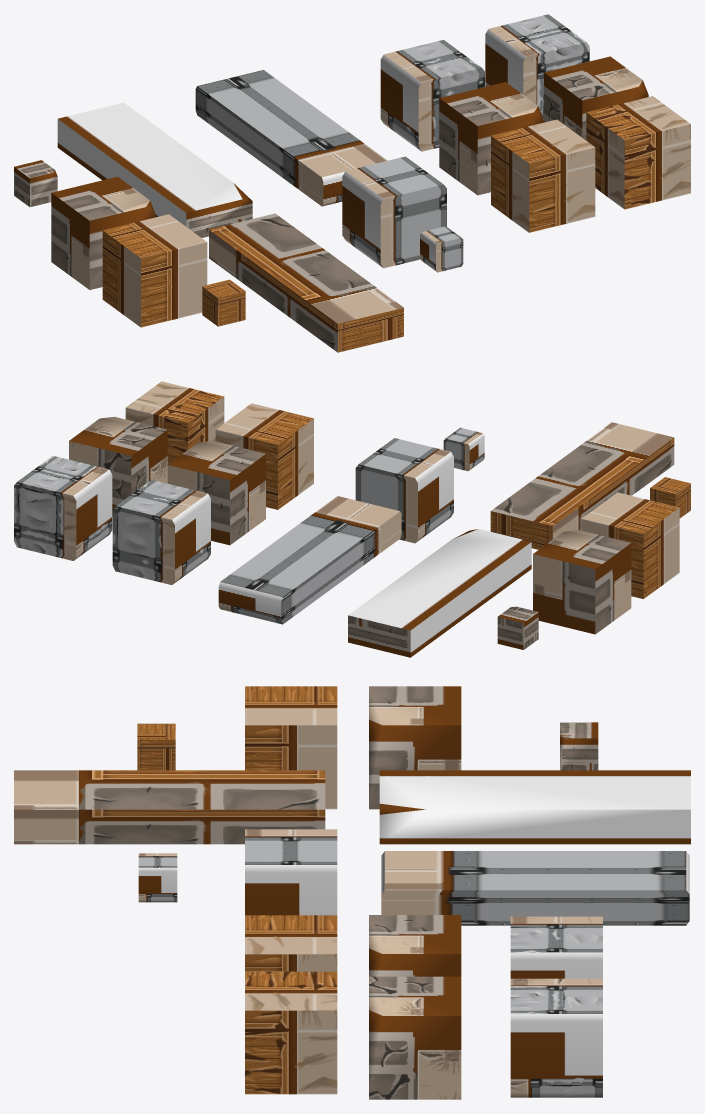
Rendered from objects - Kopia.fbx.
The picture shows the model from 3 angles, top to bottom: view 1: azimuth 30°, elevation 25°; view 2: azimuth 150°, elevation 25°; view 3: azimuth 270°, elevation 25°; orthographic projection. The views are drawn at different scales.
Parts seen in each view (by area): view 1: wood_6, rock_3, wood_8, wood_10, wood_4, wood_11, wood_7, wood_12, rock_4, rock_1, wood_13, rock_5 (+3 smaller); view 2: rock_3, wood_8, wood_6, rock_1, wood_13, wood_12, wood_7, rock_4, wood_4, wood_10, rock_5, wood_11 (+3 smaller); view 3: rock_3, wood_6, wood_8, rock_5, wood_11, wood_13, wood_4, rock_1, wood_7, wood_12, rock_4, wood_10 (+3 smaller).
Part boxes in pixels (left/top/right/bottom): wood_6: left=209, top=213, right=403, bottom=352; rock_3: left=57, top=102, right=252, bottom=237; wood_8: left=195, top=70, right=387, bottom=206; wood_10: left=491, top=119, right=595, bottom=232; wood_4: left=102, top=214, right=207, bottom=327; wood_11: left=586, top=96, right=690, bottom=209; wood_7: left=342, top=156, right=446, bottom=268; wood_12: left=380, top=40, right=484, bottom=151; rock_4: left=439, top=82, right=543, bottom=195; rock_1: left=51, top=176, right=155, bottom=289; wood_13: left=485, top=14, right=589, bottom=119; rock_5: left=544, top=56, right=648, bottom=140; rock_3: left=348, top=529, right=531, bottom=657; wood_8: left=218, top=496, right=401, bottom=624; wood_6: left=490, top=422, right=674, bottom=549; rock_1: left=533, top=530, right=631, bottom=634; wood_13: left=14, top=456, right=112, bottom=560; wood_12: left=112, top=480, right=210, bottom=584; wood_7: left=355, top=438, right=453, bottom=543; rock_4: left=167, top=441, right=265, bottom=545; wood_4: left=581, top=492, right=679, bottom=598; wood_10: left=215, top=403, right=313, bottom=509; rock_5: left=69, top=416, right=167, bottom=516; wood_11: left=125, top=381, right=224, bottom=464; rock_3: left=379, top=770, right=690, bottom=844; wood_6: left=14, top=770, right=325, bottom=844; wood_8: left=381, top=851, right=689, bottom=925; rock_5: left=369, top=976, right=461, bottom=1099; wood_11: left=245, top=971, right=337, bottom=1094; wood_13: left=510, top=978, right=602, bottom=1097; wood_4: left=245, top=686, right=337, bottom=809; rock_1: left=369, top=686, right=461, bottom=809; wood_7: left=245, top=829, right=337, bottom=915; wood_12: left=510, top=916, right=602, bottom=978; rock_4: left=369, top=915, right=461, bottom=976; wood_10: left=245, top=915, right=337, bottom=971.
Bounding box in the file's own units: 66.78 × 7.92 × 57.99.
